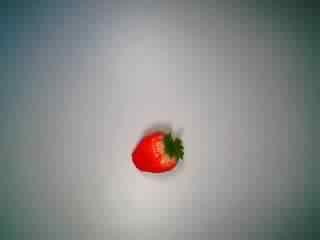strawberry: (120, 116, 193, 180)
